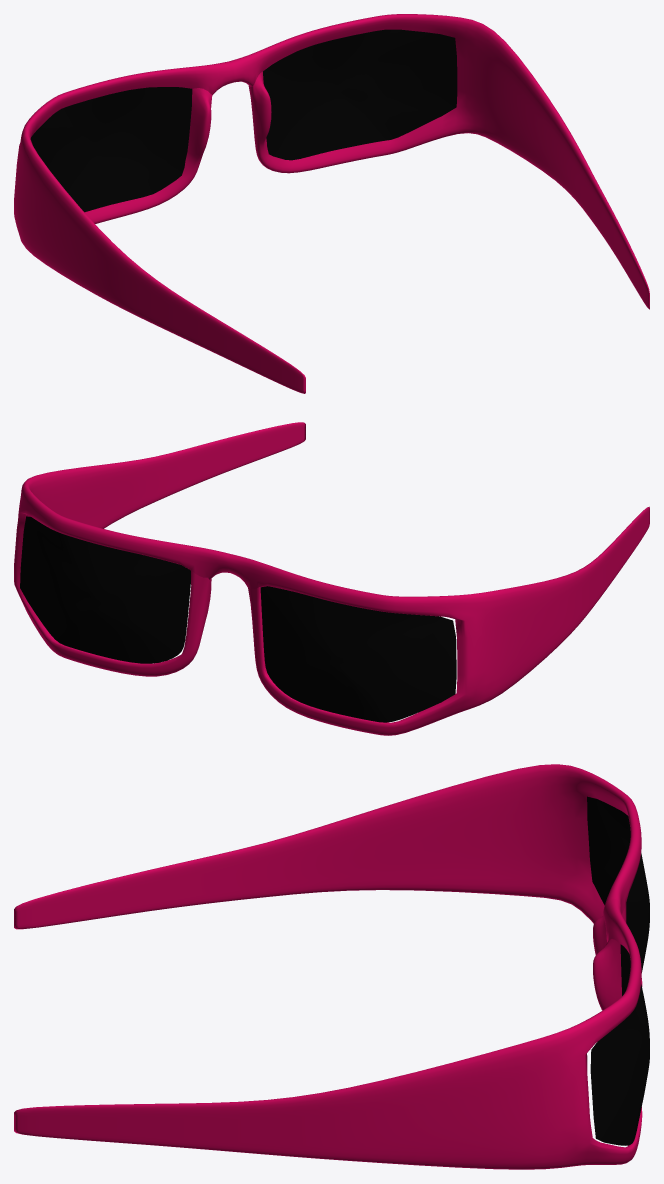
File: DUKES BRILLE GROESßER SBS 2 SMOOTH MIRROR ALONE fertig.fbx
The picture shows the model from 3 angles, top to bottom: view 1: azimuth 30°, elevation 25°; view 2: azimuth 150°, elevation 25°; view 3: azimuth 270°, elevation 25°; orthographic projection. The views are drawn at different scales.
Parts seen in each view (by area): view 1: brille; view 2: brille; view 3: brille.
Part boxes in pixels (left/top/right/bottom): brille: left=14, top=14, right=649, bottom=393; brille: left=14, top=422, right=649, bottom=735; brille: left=14, top=764, right=649, bottom=1169.
Size of the model in its own units: 0.1298 by 0.0362 by 0.1235.
